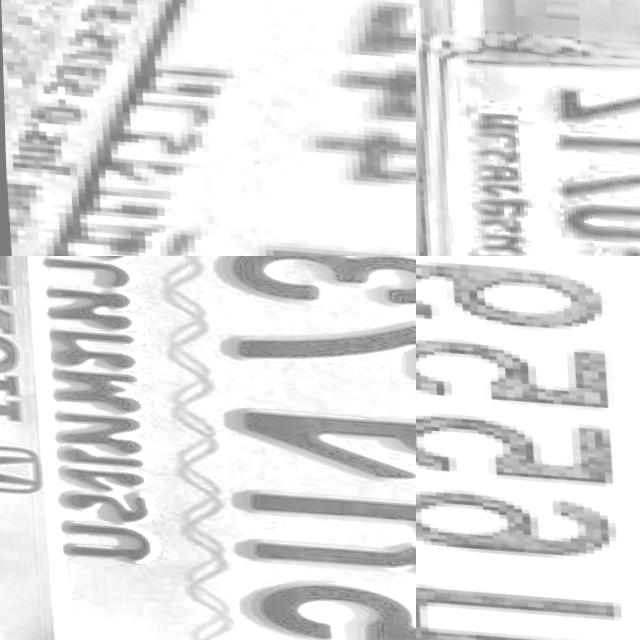license-plate: (0, 256, 416, 640), (0, 0, 416, 256), (416, 256, 640, 640), (420, 10, 640, 256)
